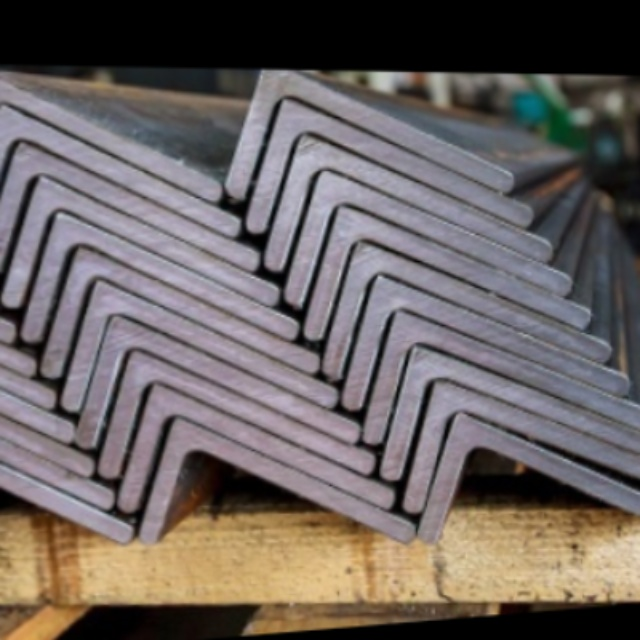Angle: (105, 360, 363, 483), (63, 296, 331, 412), (340, 295, 625, 404), (226, 81, 510, 190), (365, 324, 640, 436), (80, 331, 350, 445), (145, 432, 404, 550), (2, 195, 278, 305), (127, 398, 388, 511), (43, 264, 309, 373), (326, 261, 601, 366), (23, 232, 290, 338), (273, 155, 546, 256), (294, 193, 563, 295), (0, 158, 254, 266), (388, 363, 640, 470), (309, 230, 579, 328), (253, 121, 525, 215), (0, 129, 235, 232), (431, 433, 640, 547), (415, 392, 640, 496), (0, 84, 213, 191), (0, 428, 125, 545), (0, 398, 99, 511), (0, 370, 86, 479), (0, 327, 66, 438), (0, 294, 51, 404)
